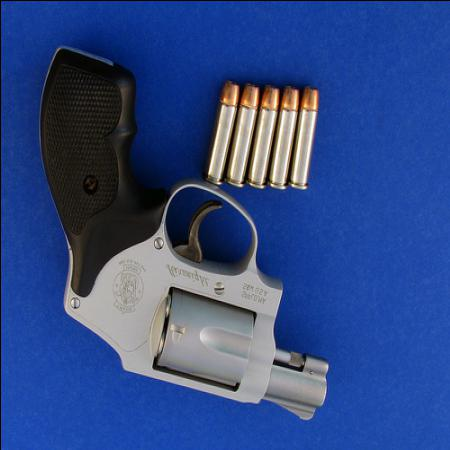Pistol: (38, 46, 325, 423)
